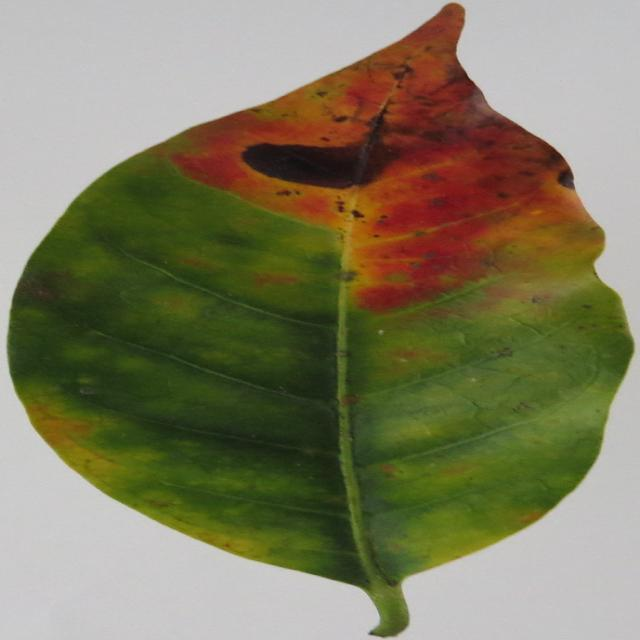DeficienciaNutricional-Fosforo: (9, 4, 631, 636)
